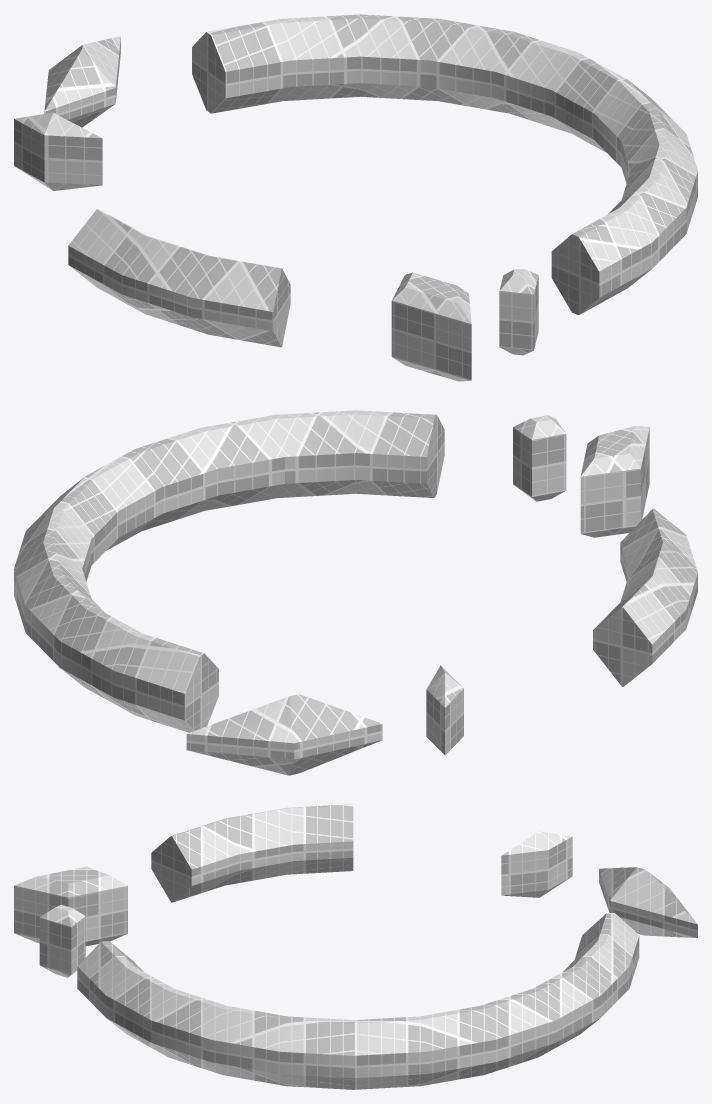
File: Tuto_ring1.fbx
The picture shows the model from 3 angles, top to bottom: view 1: azimuth 30°, elevation 25°; view 2: azimuth 150°, elevation 25°; view 3: azimuth 270°, elevation 25°; orthographic projection. The views are drawn at different scales.
Parts seen in each view (by area): view 1: Torus.001, Torus.004, Torus.003, Torus.005, Torus.006, Torus.002; view 2: Torus.001, Torus.004, Torus.006, Torus.003, Torus.002, Torus.005; view 3: Torus.001, Torus.004, Torus.003, Torus.006, Torus.005, Torus.002.
Part boxes in pixels (x1=…): Torus.001: x1=192, y1=14, x2=697, y2=315; Torus.004: x1=68, y1=209, x2=290, y2=347; Torus.003: x1=391, y1=272, x2=471, y2=381; Torus.005: x1=14, y1=112, x2=102, y2=190; Torus.006: x1=44, y1=36, x2=120, y2=127; Torus.002: x1=499, y1=269, x2=538, y2=355; Torus.001: x1=14, y1=410, x2=444, y2=732; Torus.004: x1=593, y1=508, x2=697, y2=686; Torus.006: x1=186, y1=694, x2=382, y2=775; Torus.003: x1=580, y1=426, x2=649, y2=537; Torus.002: x1=513, y1=415, x2=566, y2=501; Torus.005: x1=426, y1=665, x2=463, y2=755; Torus.001: x1=77, y1=913, x2=639, y2=1089; Torus.004: x1=151, y1=804, x2=353, y2=902; Torus.003: x1=14, y1=866, x2=127, y2=946; Torus.006: x1=599, y1=867, x2=697, y2=937; Torus.005: x1=501, y1=831, x2=572, y2=897; Torus.002: x1=39, y1=904, x2=85, y2=977.
Size of the model in its own units: 1134 by 145 by 1357.
